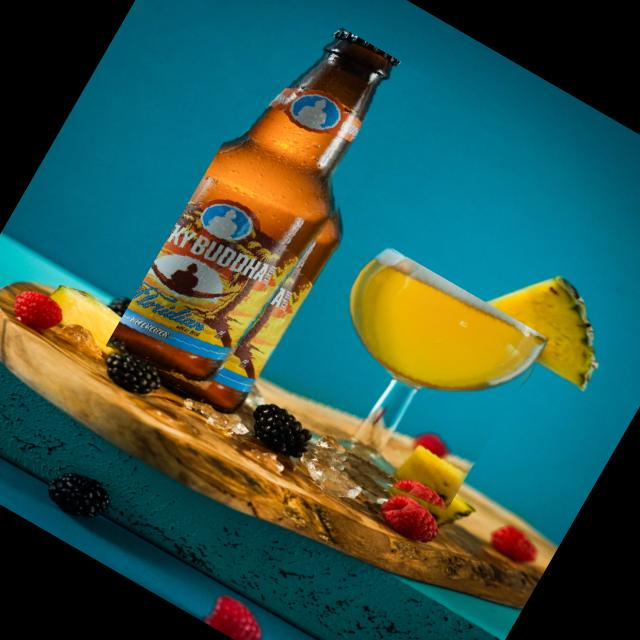Glass: (103, 6, 433, 426), (268, 240, 550, 532)
